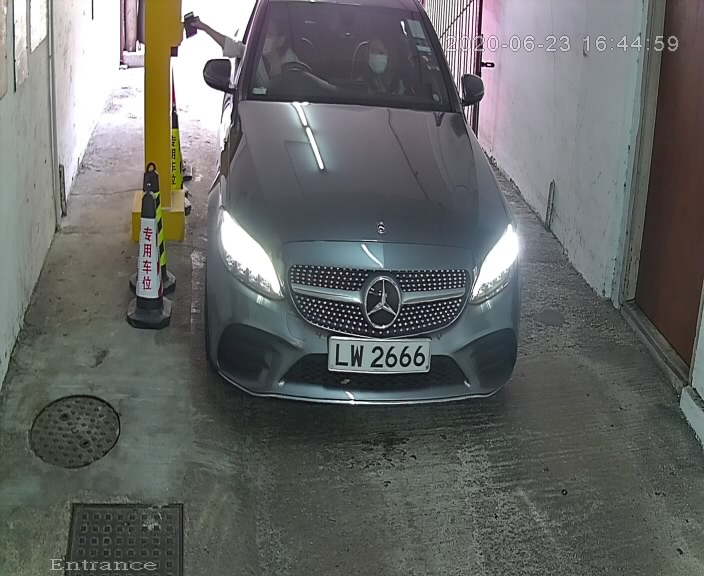privatecar: (186, 2, 533, 427)
